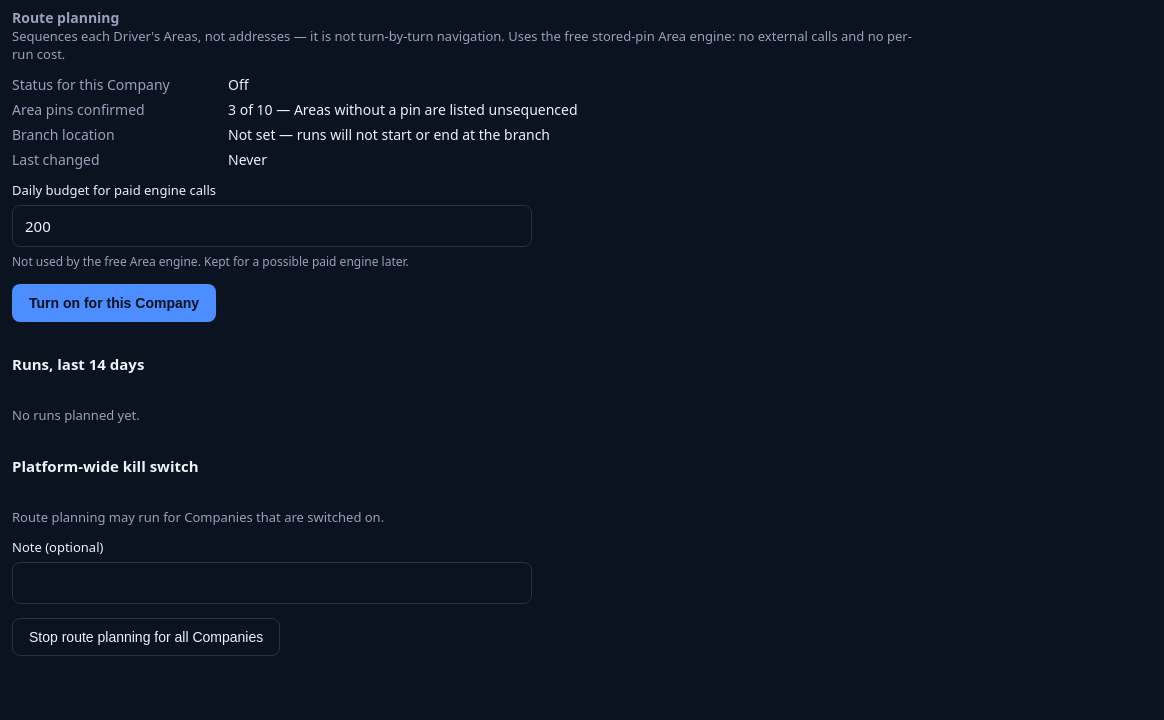
Test: CompanyRouteOptimizationPanel › shows pins and branch readiness and turns route planning on with the loaded version
expect the text "3 of 10 — Areas without a pin are listed unsequenced" is shown: met, box 228,100 -> 578,119
expect the text "Not set — runs will not start or end at the branch" is shown: met, box 228,125 -> 550,144
Step 1. Click the button "Turn on for this Company" → [114, 303], box 12,284 -> 216,322
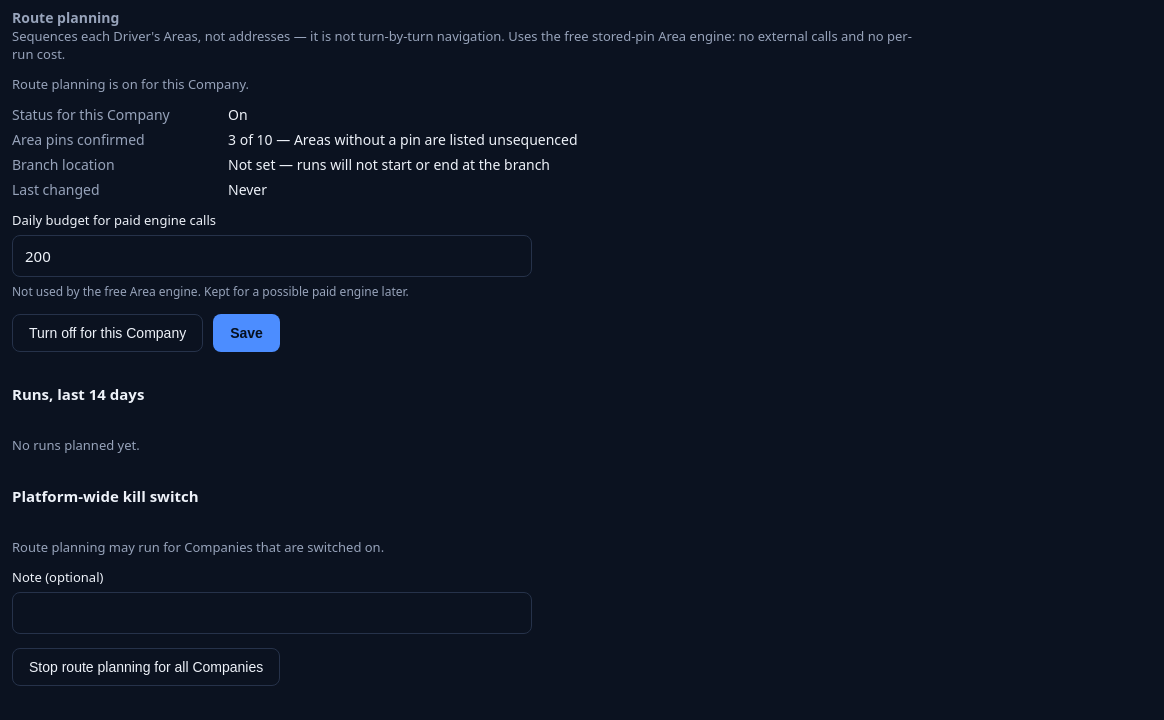
expect the text "Route planning is on for this Company." is shown: met, box 12,75 -> 249,93
